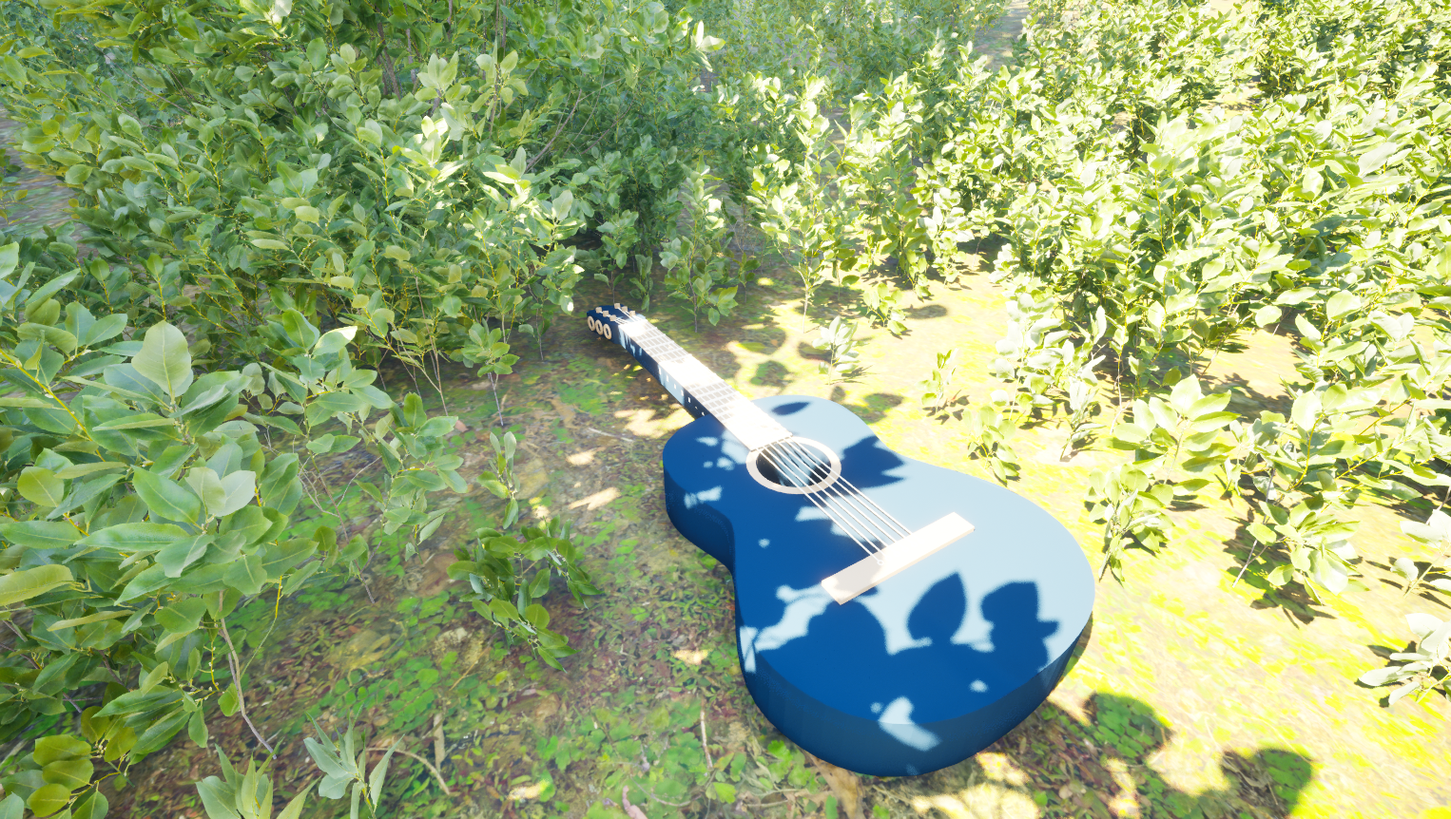Guitar: (501, 277, 1161, 819)
